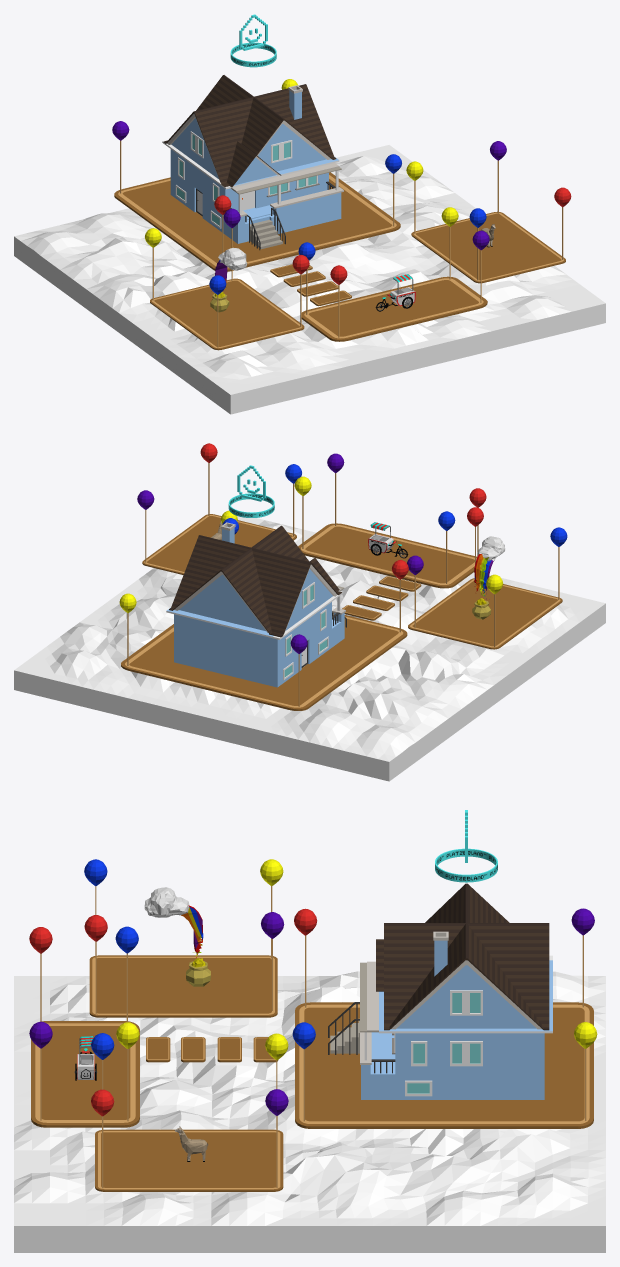
3 renders of one model, top to bottom at view 1: azimuth 30°, elevation 25°; view 2: azimuth 150°, elevation 25°; view 3: azimuth 270°, elevation 25°, orthographic. The views are drawn at different scales.
Visible parts, largest first — view 1: Cube.013, Cube.1594, OBJRANDOM_RAINBOW, TYPE_PREMIUM, VEHICLES_SNOWBAL_BIKE; view 2: Cube.013, Cube.1594, OBJRANDOM_RAINBOW, TYPE_PREMIUM, VEHICLES_SNOWBAL_BIKE; view 3: Cube.013, Cube.1594, OBJRANDOM_RAINBOW, TYPE_PREMIUM, VEHICLES_SNOWBAL_BIKE.
Boxes of the visible parts, bbox=[...] form: Cube.013: bbox=[14, 79, 605, 414]; Cube.1594: bbox=[162, 75, 343, 250]; OBJRANDOM_RAINBOW: bbox=[210, 247, 247, 312]; TYPE_PREMIUM: bbox=[230, 14, 276, 67]; VEHICLES_SNOWBAL_BIKE: bbox=[375, 274, 415, 311]; Cube.013: bbox=[14, 443, 605, 781]; Cube.1594: bbox=[166, 522, 346, 687]; OBJRANDOM_RAINBOW: bbox=[472, 536, 505, 619]; TYPE_PREMIUM: bbox=[228, 465, 274, 517]; VEHICLES_SNOWBAL_BIKE: bbox=[368, 522, 408, 558]; Cube.013: bbox=[14, 859, 605, 1252]; Cube.1594: bbox=[328, 883, 552, 1099]; OBJRANDOM_RAINBOW: bbox=[144, 887, 210, 986]; TYPE_PREMIUM: bbox=[435, 810, 497, 882]; VEHICLES_SNOWBAL_BIKE: bbox=[74, 1036, 97, 1080].
Size of the model in its own units: 4000 by 2443 by 4000.
41 materials, 2 textured.
